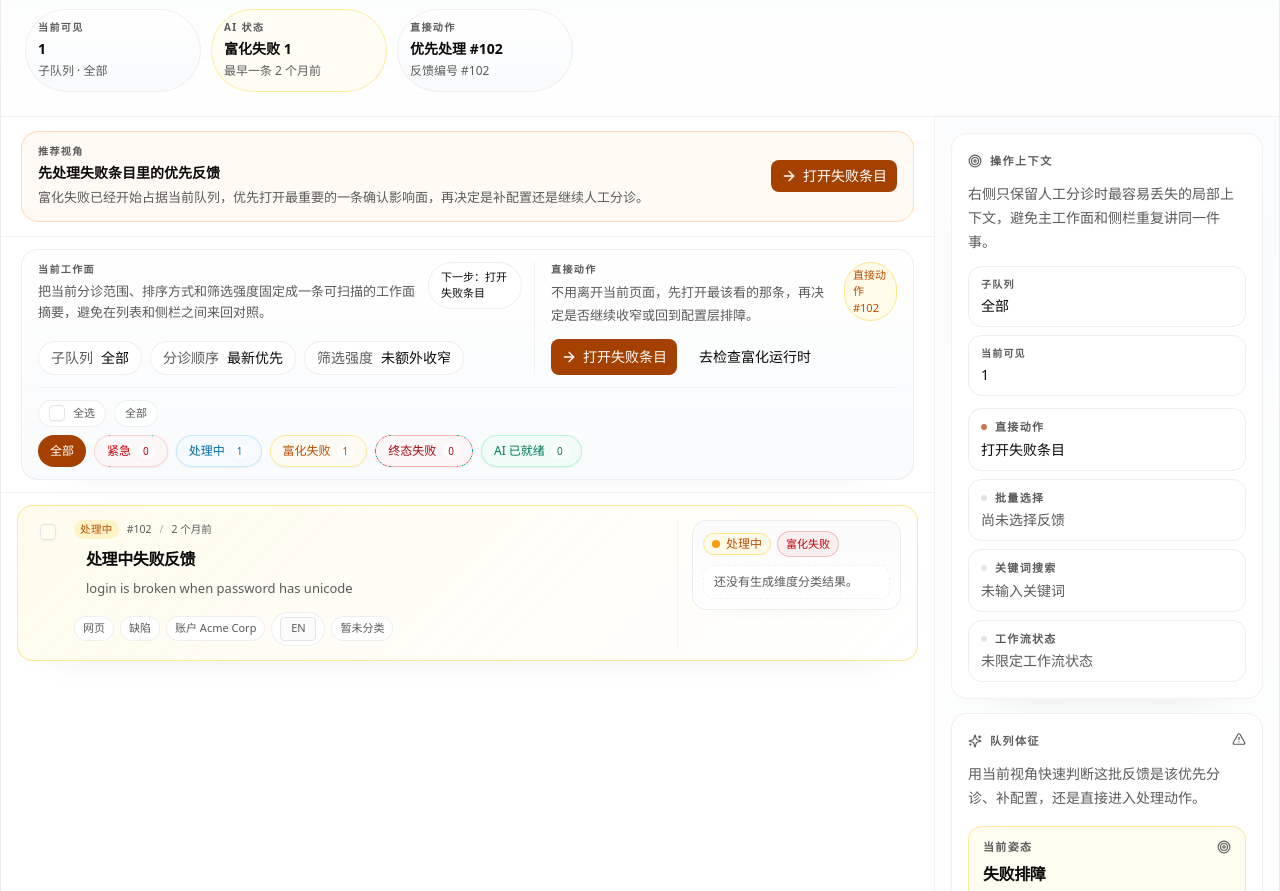
_authed.feedback route — user flow smoke › queue posture stays aligned with the active local queue instead of failed AI status
(page scrolled)
Expected: the text "处理中失败反馈" is shown, [86, 548, 195, 570]
Click the button named "处理中1" at (219, 450), box [176, 434, 262, 466]
(page scrolled)
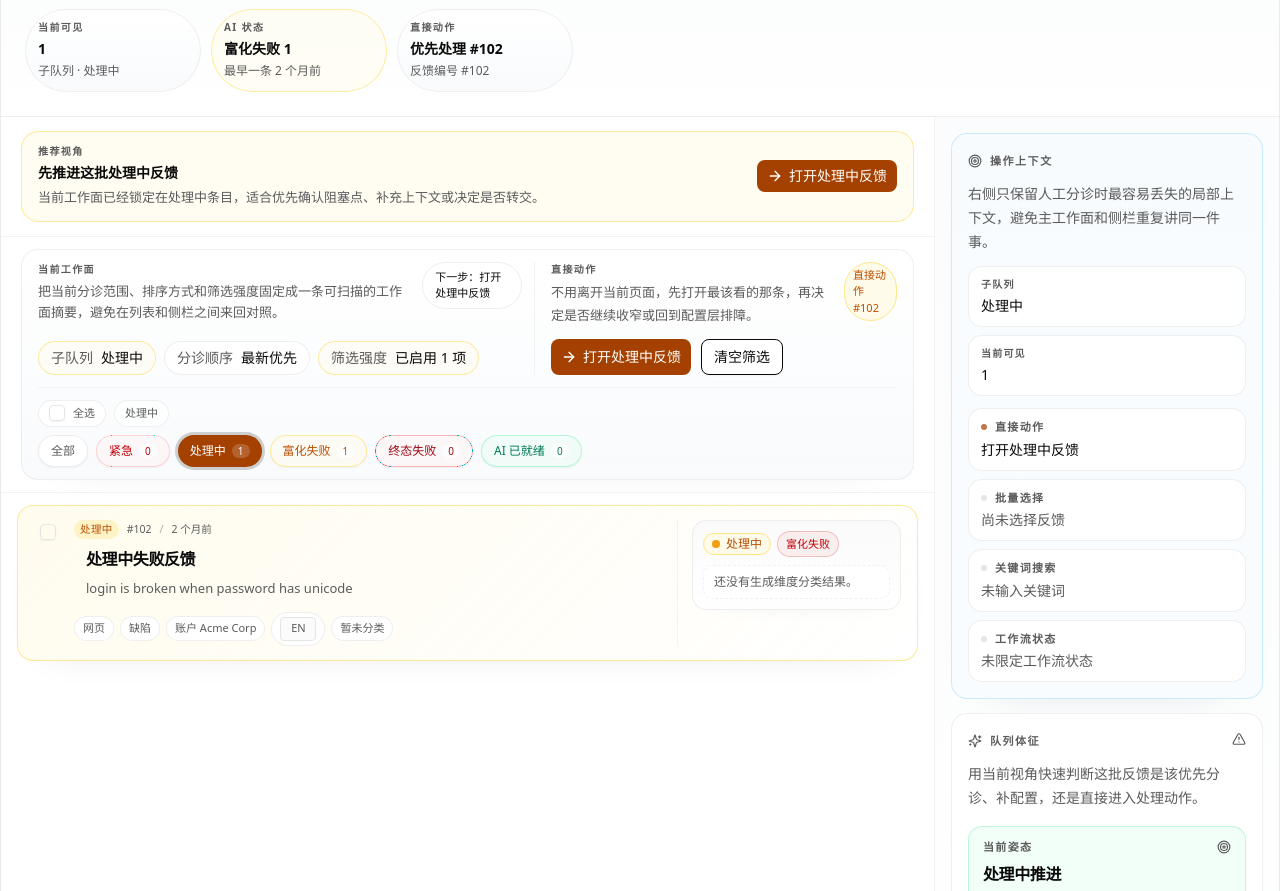
Expected: the text "当前姿态" is shown, [983, 839, 1032, 856]
Now the text "处理中推进" is shown, box [983, 862, 1061, 884]
Now the text "失败排障" is gone
